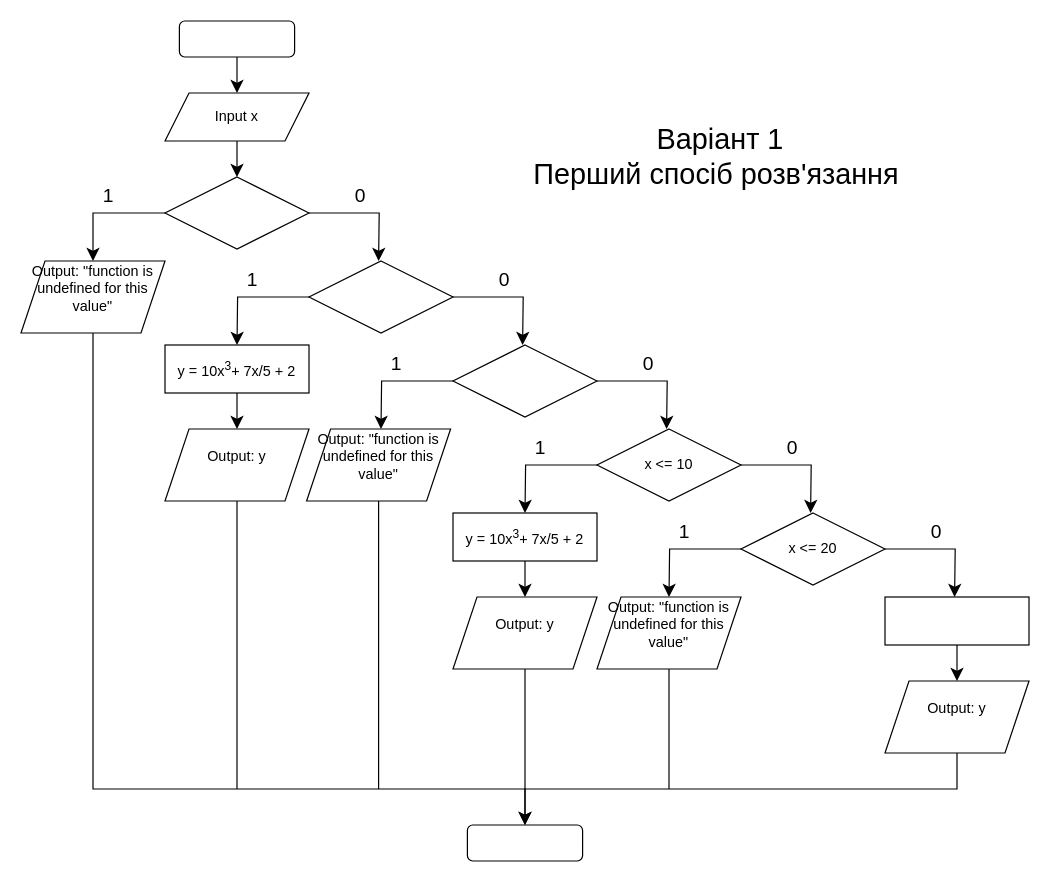
The diagram is 1050 pixels wide and 882 high, and some of its shapes have lost their labels. Here are the shapes that lost their labels. From the top down, the box of each, then its label:
(178, 20, 295, 57): Begin
(164, 176, 309, 249): x < -49
(308, 260, 453, 333): x < -10
(452, 344, 597, 417): x <= 0
(884, 596, 1029, 645): y = -x + 9
(466, 824, 583, 861): End
